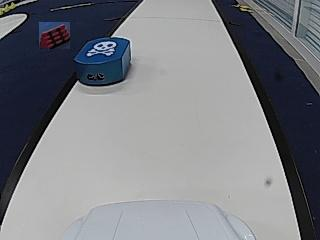danger: (86, 40, 115, 56)
